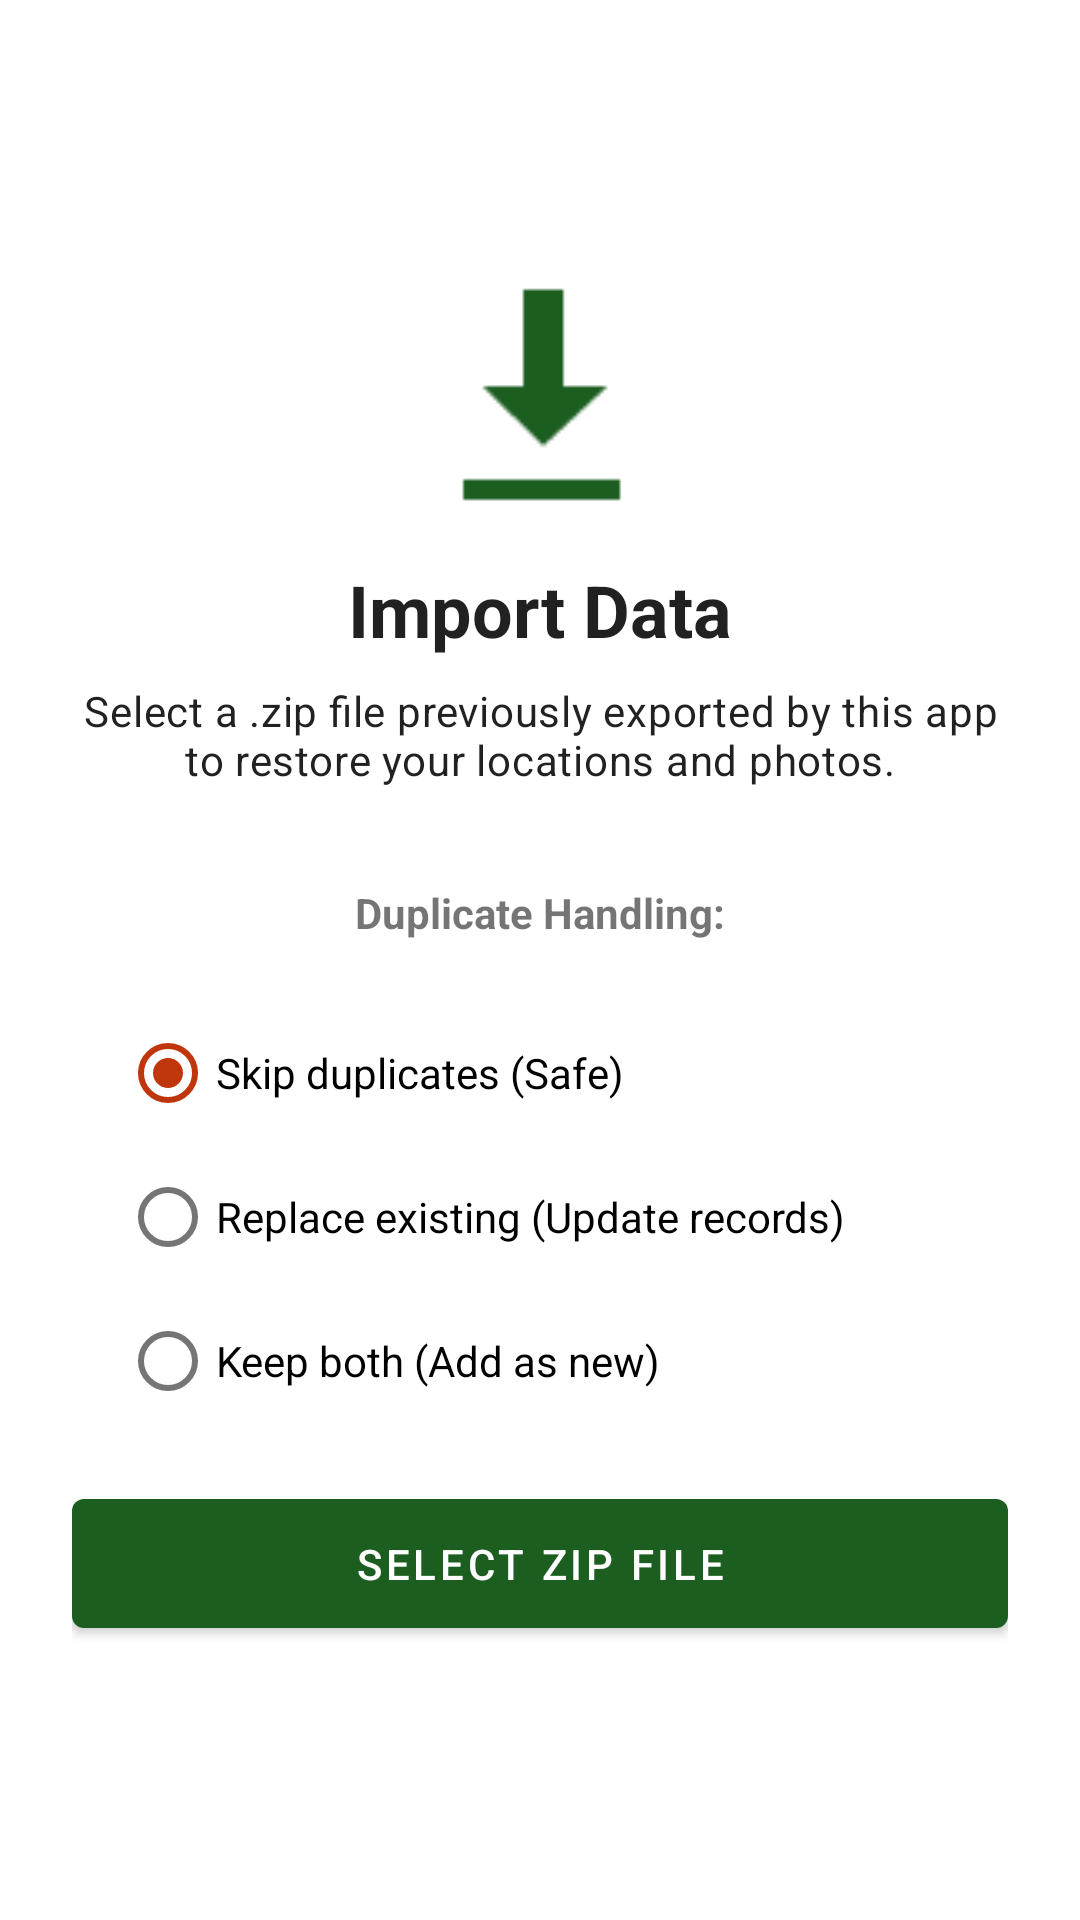

Where to tap for icons on this 1080×1920 app screen, as [x,y]:
download: [541,394]
